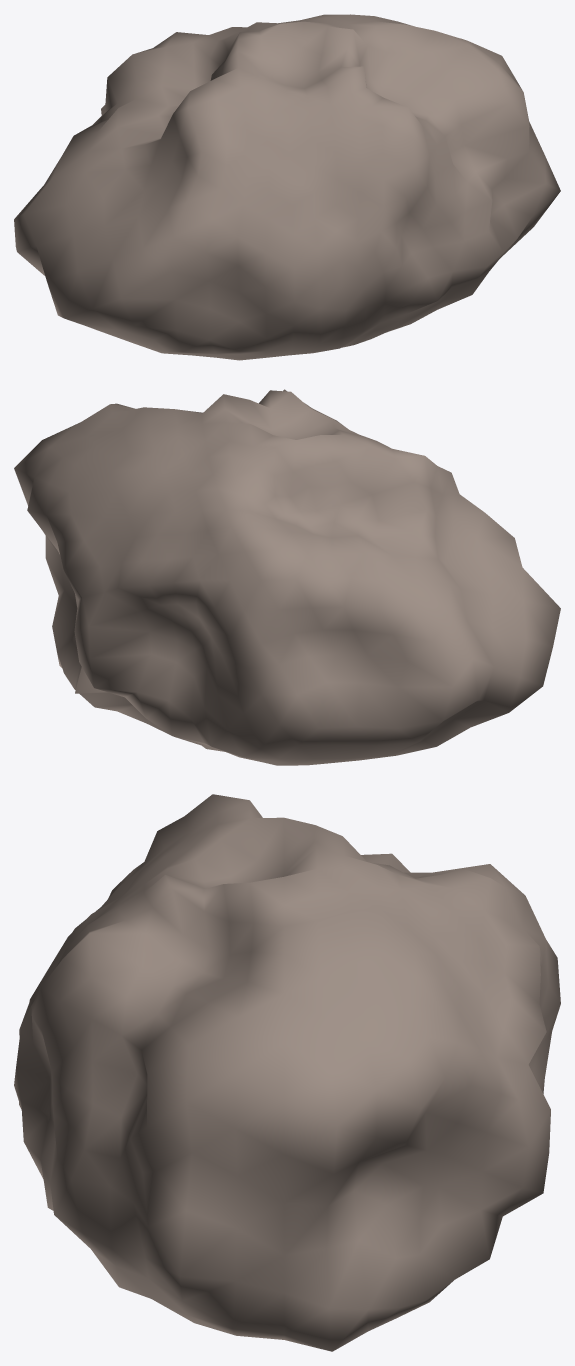
File: Metis.fbx
3 views of the same model, one above another, from view 1: azimuth 30°, elevation 25°; view 2: azimuth 150°, elevation 25°; view 3: azimuth 270°, elevation 25° (orthographic). The views are drawn at different scales.
Parts seen in each view (by area): view 1: MetisSurface; view 2: MetisSurface; view 3: MetisSurface.
Part boxes in pixels (x1,y1,x2,y2): MetisSurface: (14, 14, 560, 360); MetisSurface: (14, 389, 560, 765); MetisSurface: (14, 794, 560, 1351).
Size of the model in its own units: 2.82 by 1.69 by 1.96.
